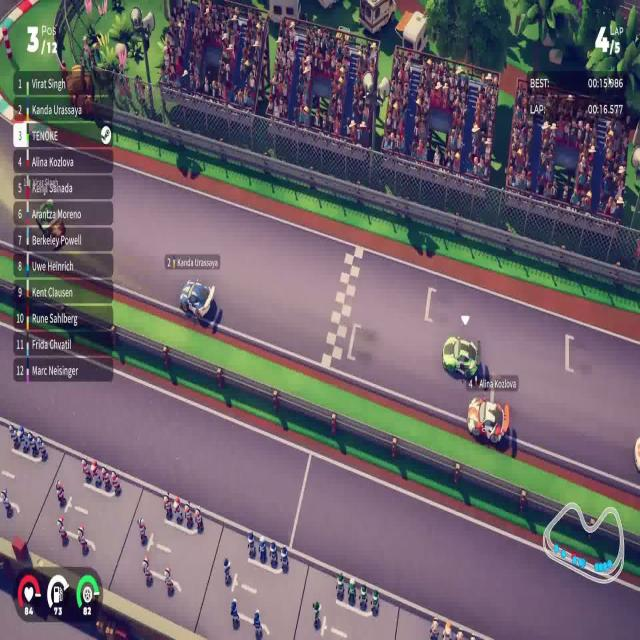car: (466, 395, 510, 446), (441, 334, 480, 381), (178, 278, 216, 321)
